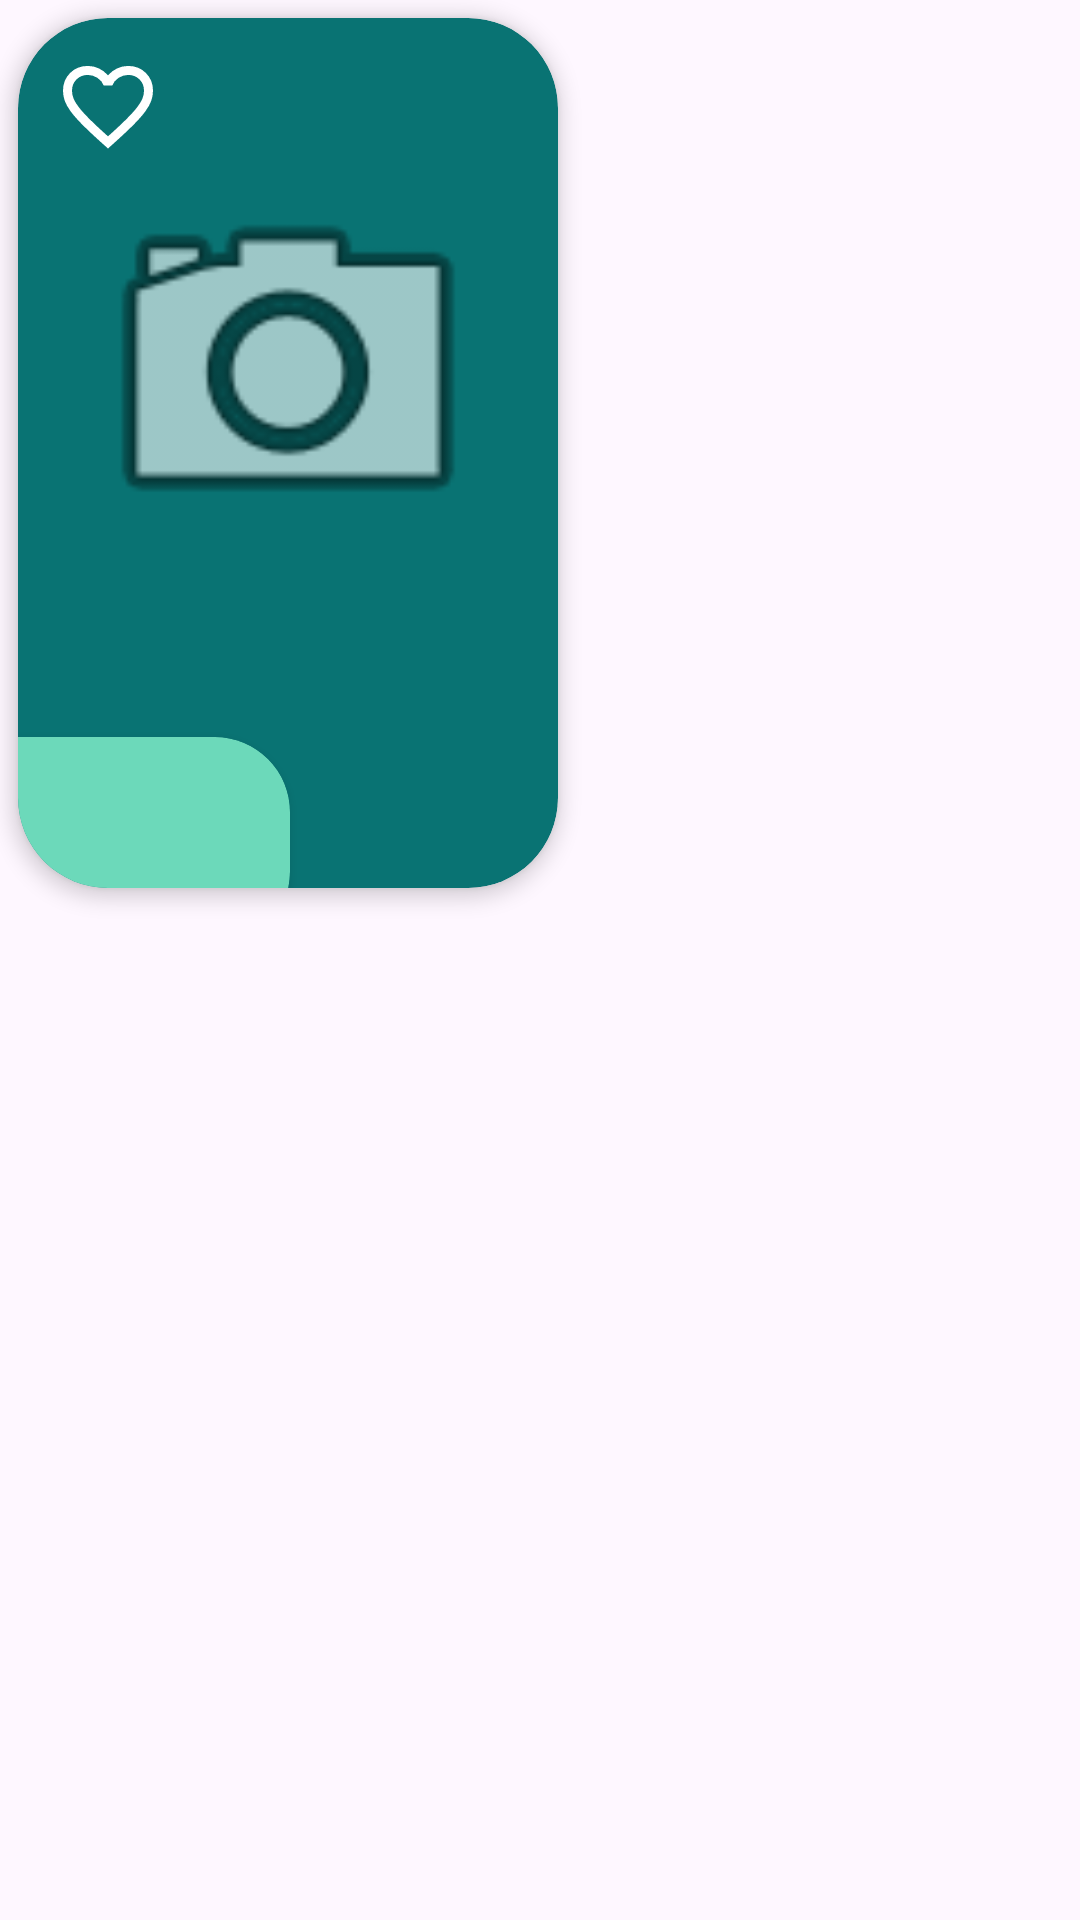

Named icons in this screenshot (1080 x 1920) and their centers, (x=x, y=y):
camera: (x=288, y=358)
favorite empty: (x=108, y=107)
